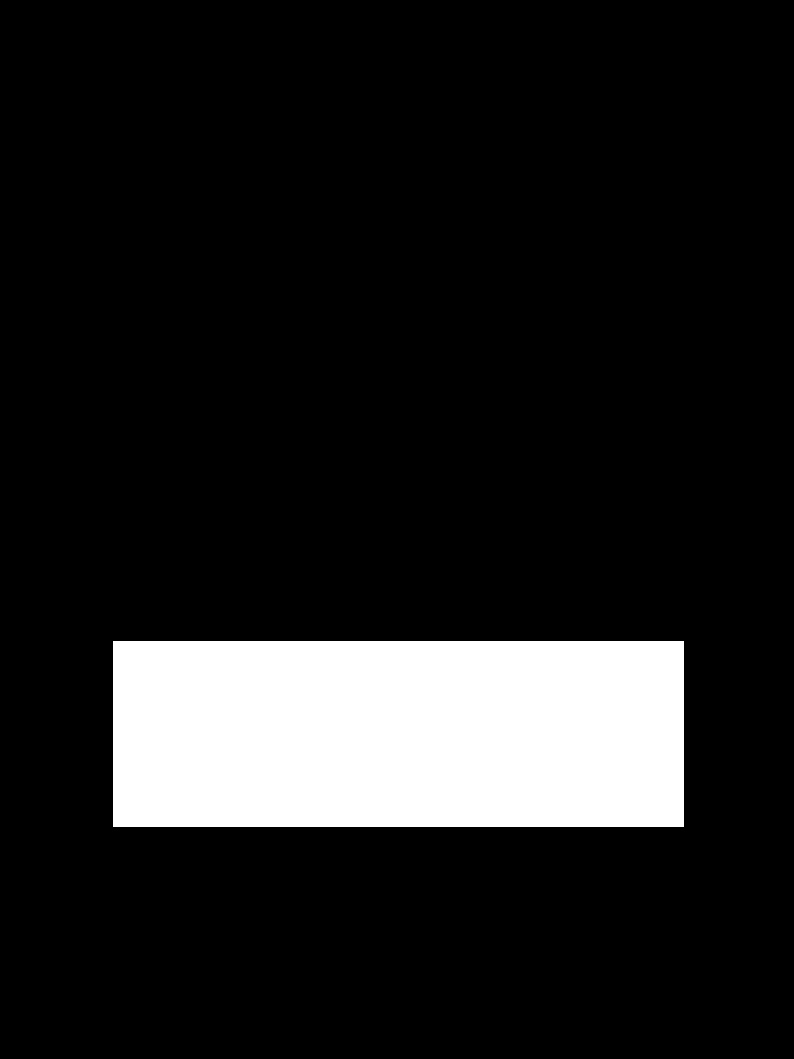table: (113, 641, 683, 826)
